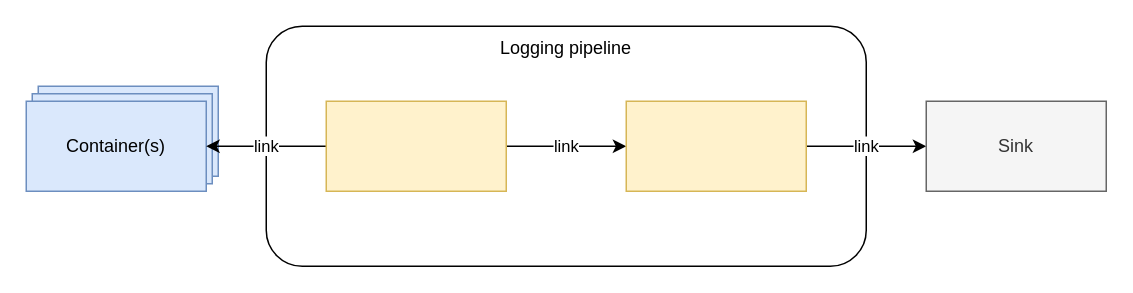
Some shapes in this 1133 by 293 pixel diagram are drawn without their labels. Here are the shapes that lost their labels. From the top down, the box of each, then its label:
(325, 100, 506, 191): Flow
(625, 100, 806, 191): Output
